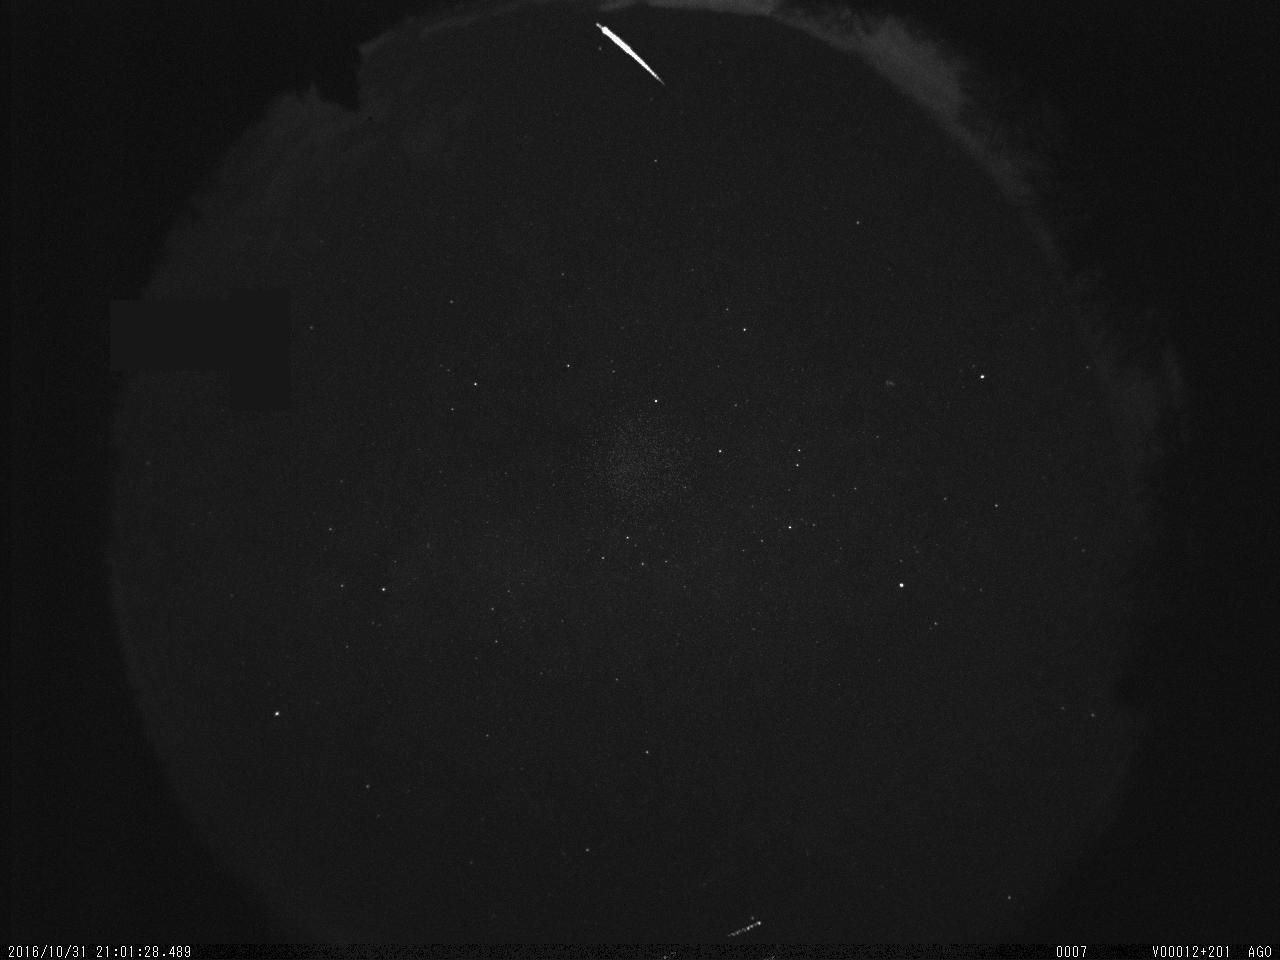meteor: (585, 17, 677, 97)
